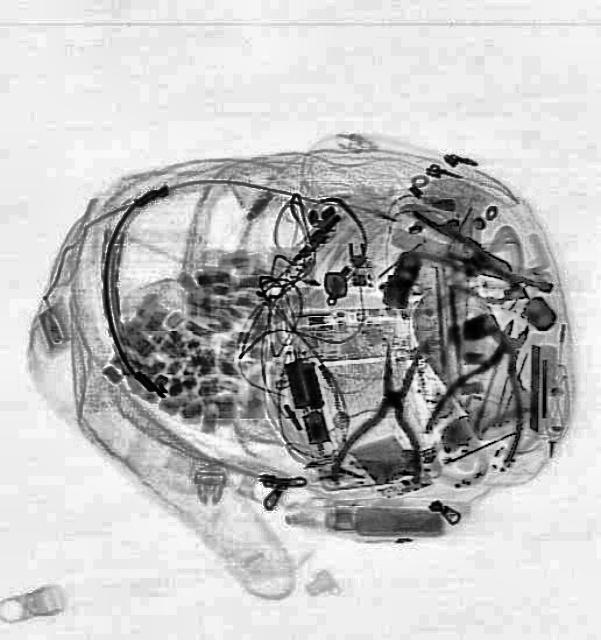Pliers: (419, 300, 564, 468), (328, 336, 444, 497), (396, 207, 522, 296)
